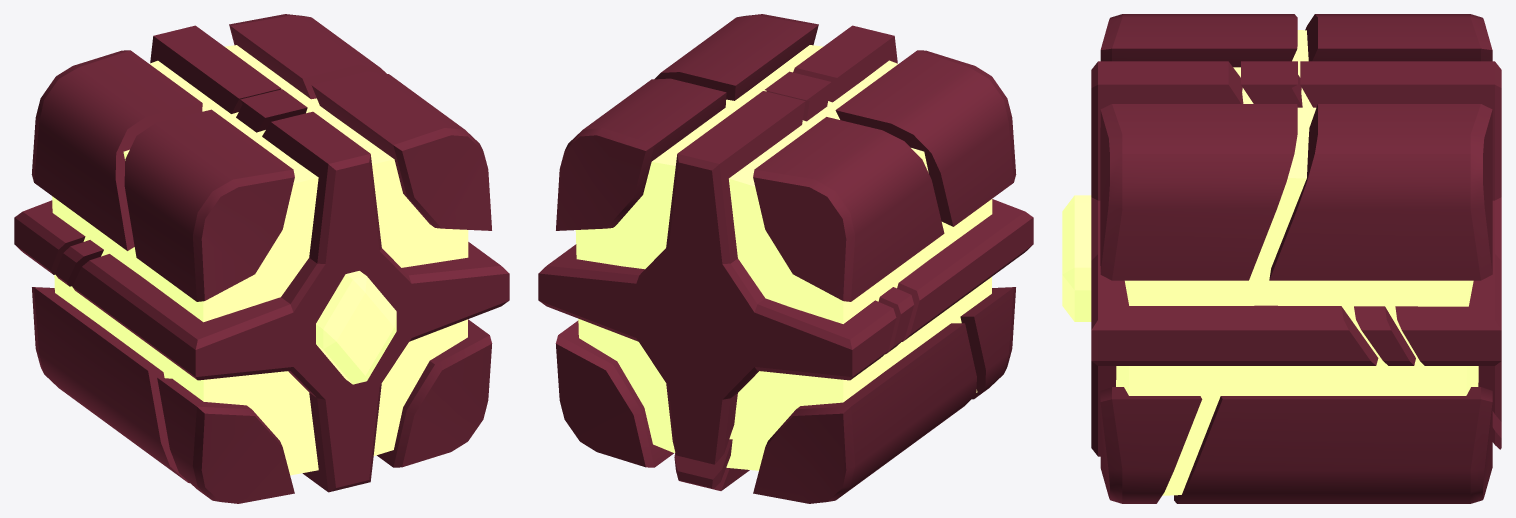
3 renders of one model, left to right at view 1: azimuth 30°, elevation 25°; view 2: azimuth 150°, elevation 25°; view 3: azimuth 270°, elevation 25°, orthographic. The views are drawn at different scales.
Parts seen in each view (by area): view 1: corner_shell, Outer_Shell, Base, Diamond; view 2: corner_shell, Outer_Shell, Base; view 3: corner_shell, Outer_Shell, Base, Diamond.
Part boxes in pixels (x1,y1,x2,y2): corner_shell: (31, 14, 492, 503); Outer_Shell: (14, 25, 509, 492); Base: (52, 45, 468, 475); Diamond: (316, 271, 396, 384); corner_shell: (555, 14, 1016, 503); Outer_Shell: (538, 25, 1033, 490); Base: (575, 45, 992, 470); corner_shell: (1100, 14, 1492, 503); Outer_Shell: (1091, 61, 1501, 456); Base: (1116, 30, 1478, 495); Diamond: (1062, 195, 1091, 321).
Size of the model in its own units: 211 by 211 by 226.
